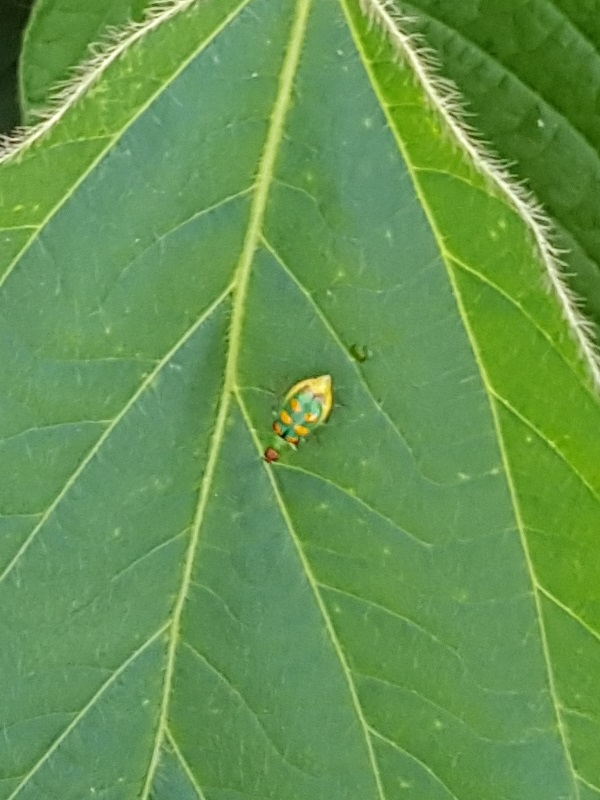Diabrotica_speciosa: (241, 358, 360, 491)
